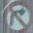Don't turn right: (1, 1, 31, 32)
